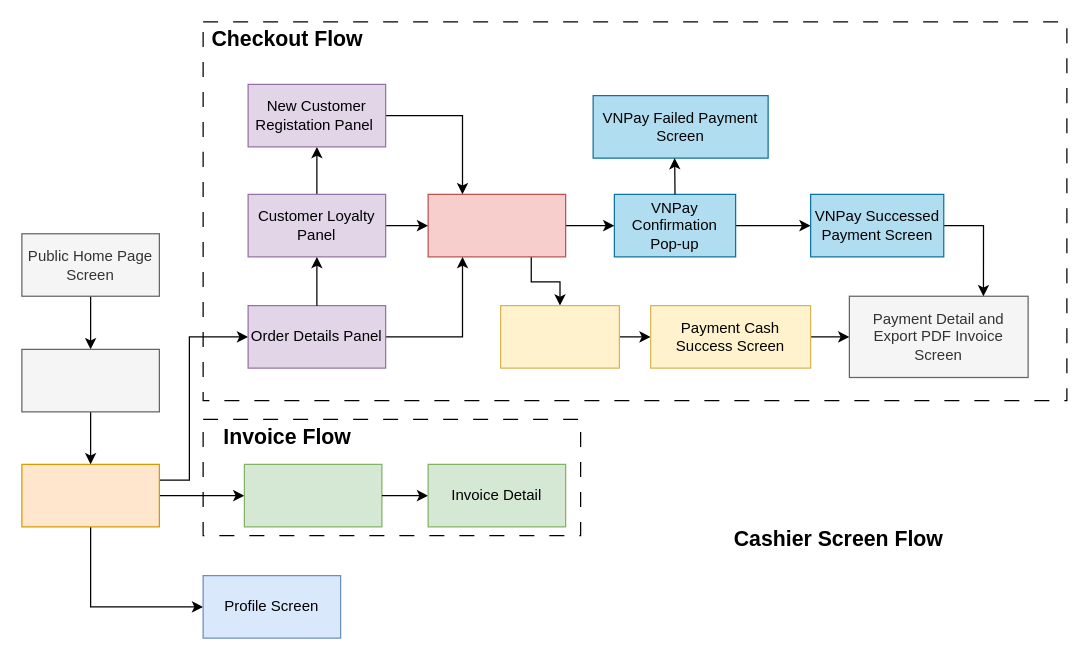
Image size: 1089x660. Some labels were removed from this diagram. The centre of each missing label's shape, as x and y in pixels:
"Cash Payment Pop-up" goes at point (559, 336).
"Invoice List" goes at point (312, 495).
"Login Screen" goes at point (90, 380).
"Payment Method Selection Pop-up" goes at point (496, 225).
"Table List Screen" goes at point (90, 495).
